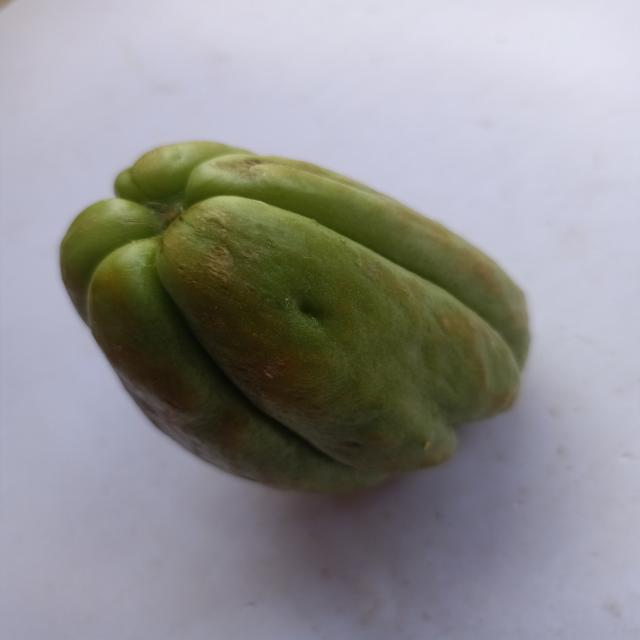Chayote: (34, 128, 566, 519)
